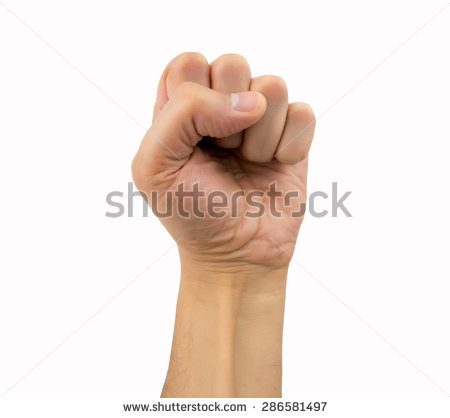fist: (120, 47, 325, 276)
